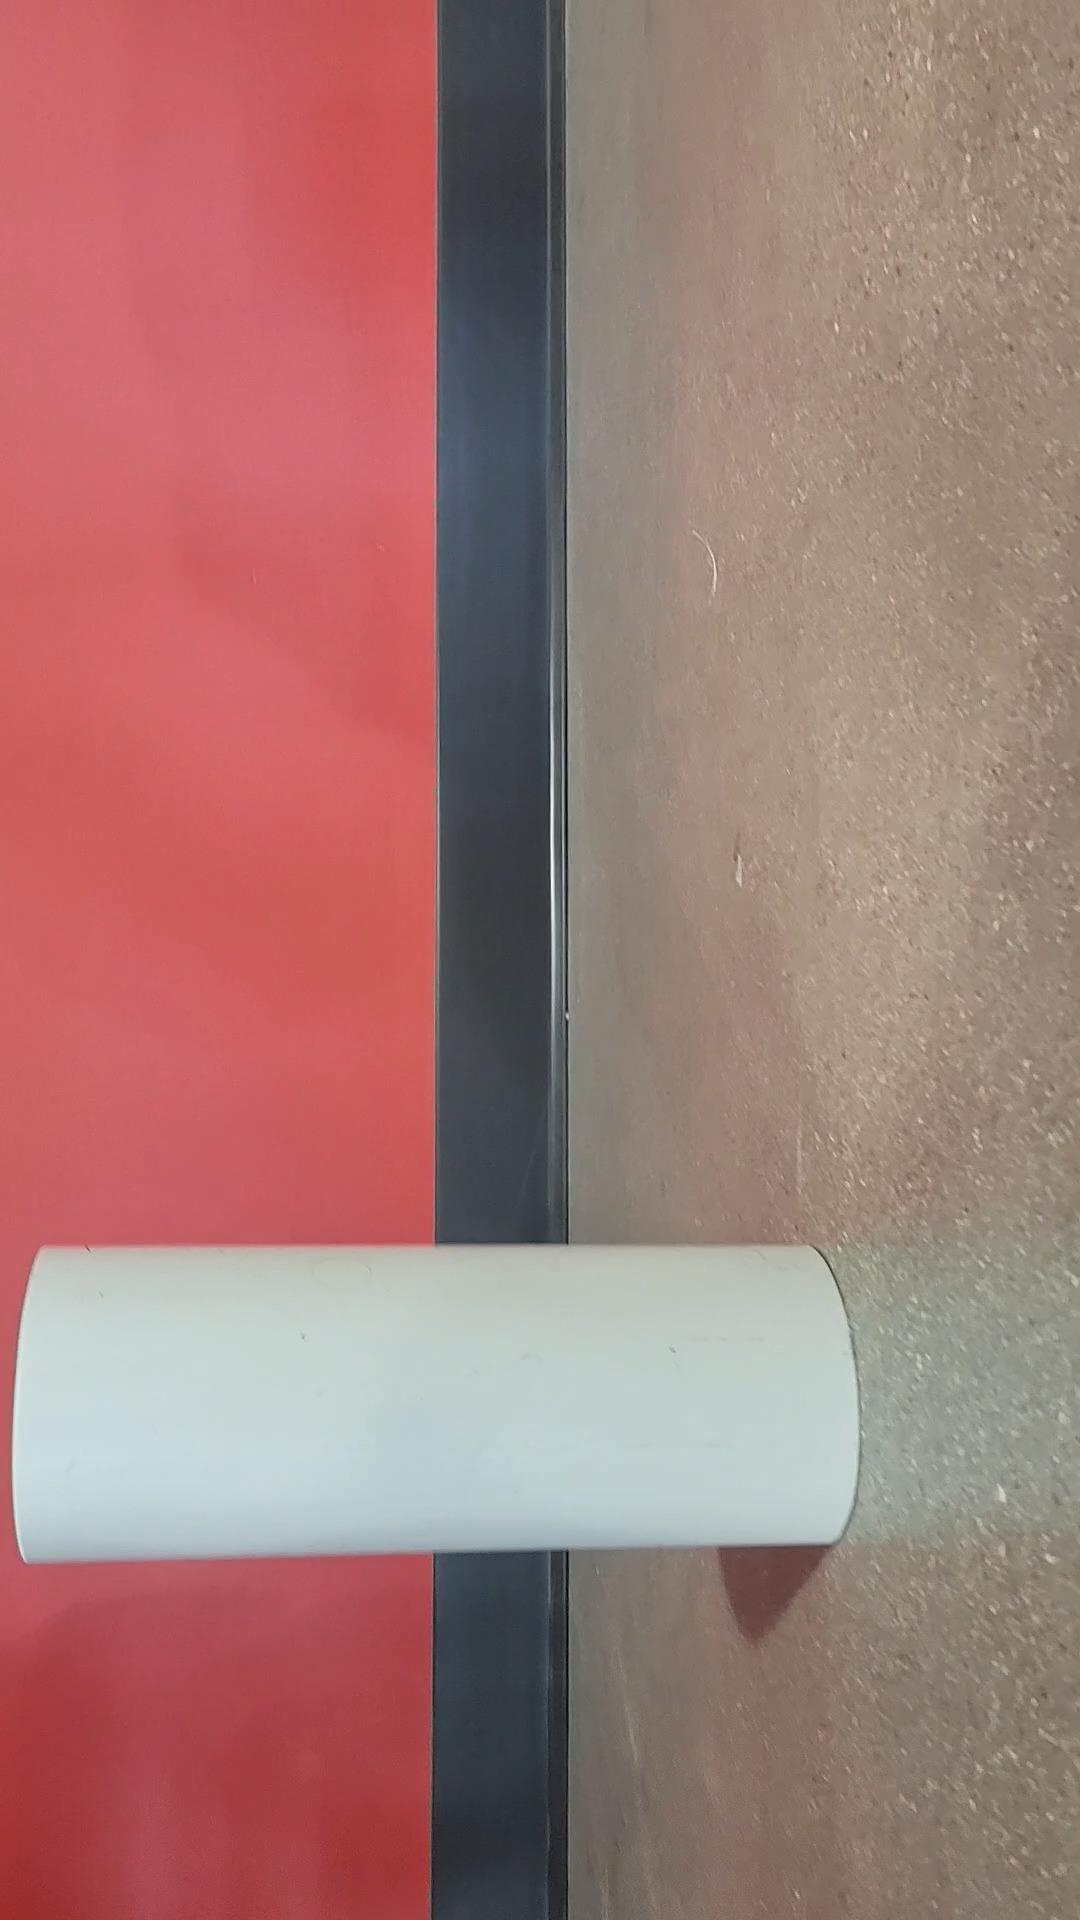coral: (15, 1237, 860, 1549)
